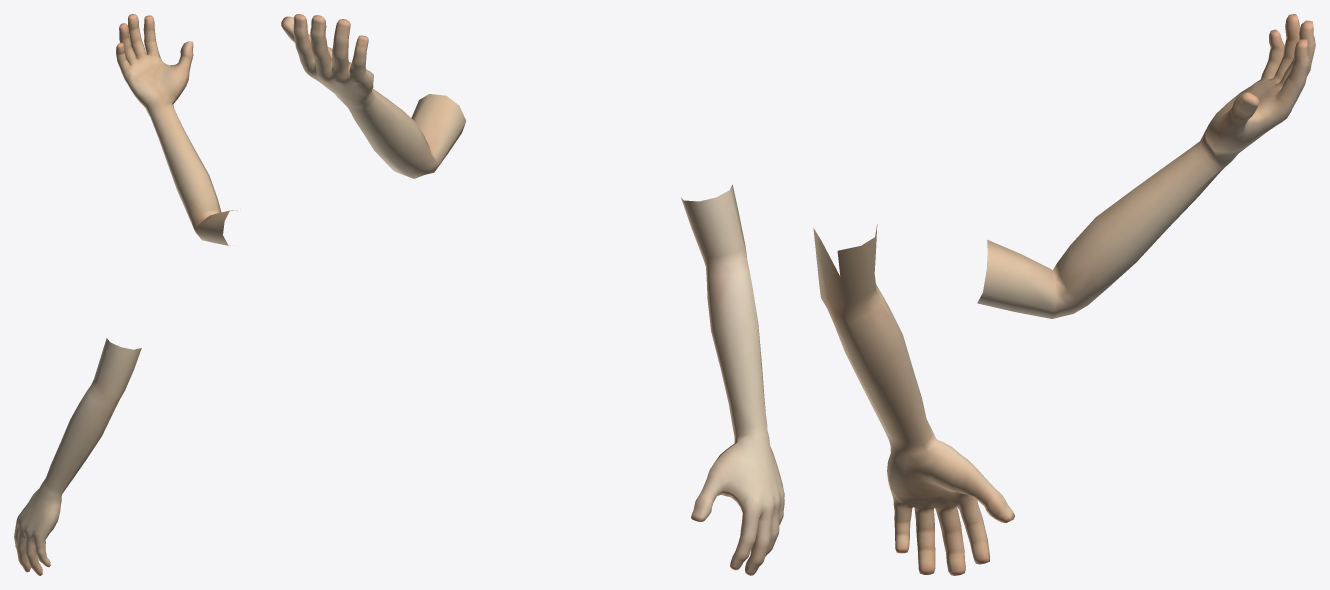
File: FrontHandAnchor.glb
The picture shows the model from 3 angles, left to right: view 1: azimuth 30°, elevation 25°; view 2: azimuth 150°, elevation 25°; view 3: azimuth 270°, elevation 25°; orthographic projection. The views are drawn at different scales.
Parts seen in each view (by area): view 1: Model; view 2: Model; view 3: Model.
Part boxes in pixels (bbox=[...]): Model: bbox=[14, 14, 240, 575]; Model: bbox=[281, 14, 784, 575]; Model: bbox=[813, 14, 1315, 575].
Size of the model in its own units: 0.4011 by 0.6242 by 0.3906.
1 material, 1 textured.
